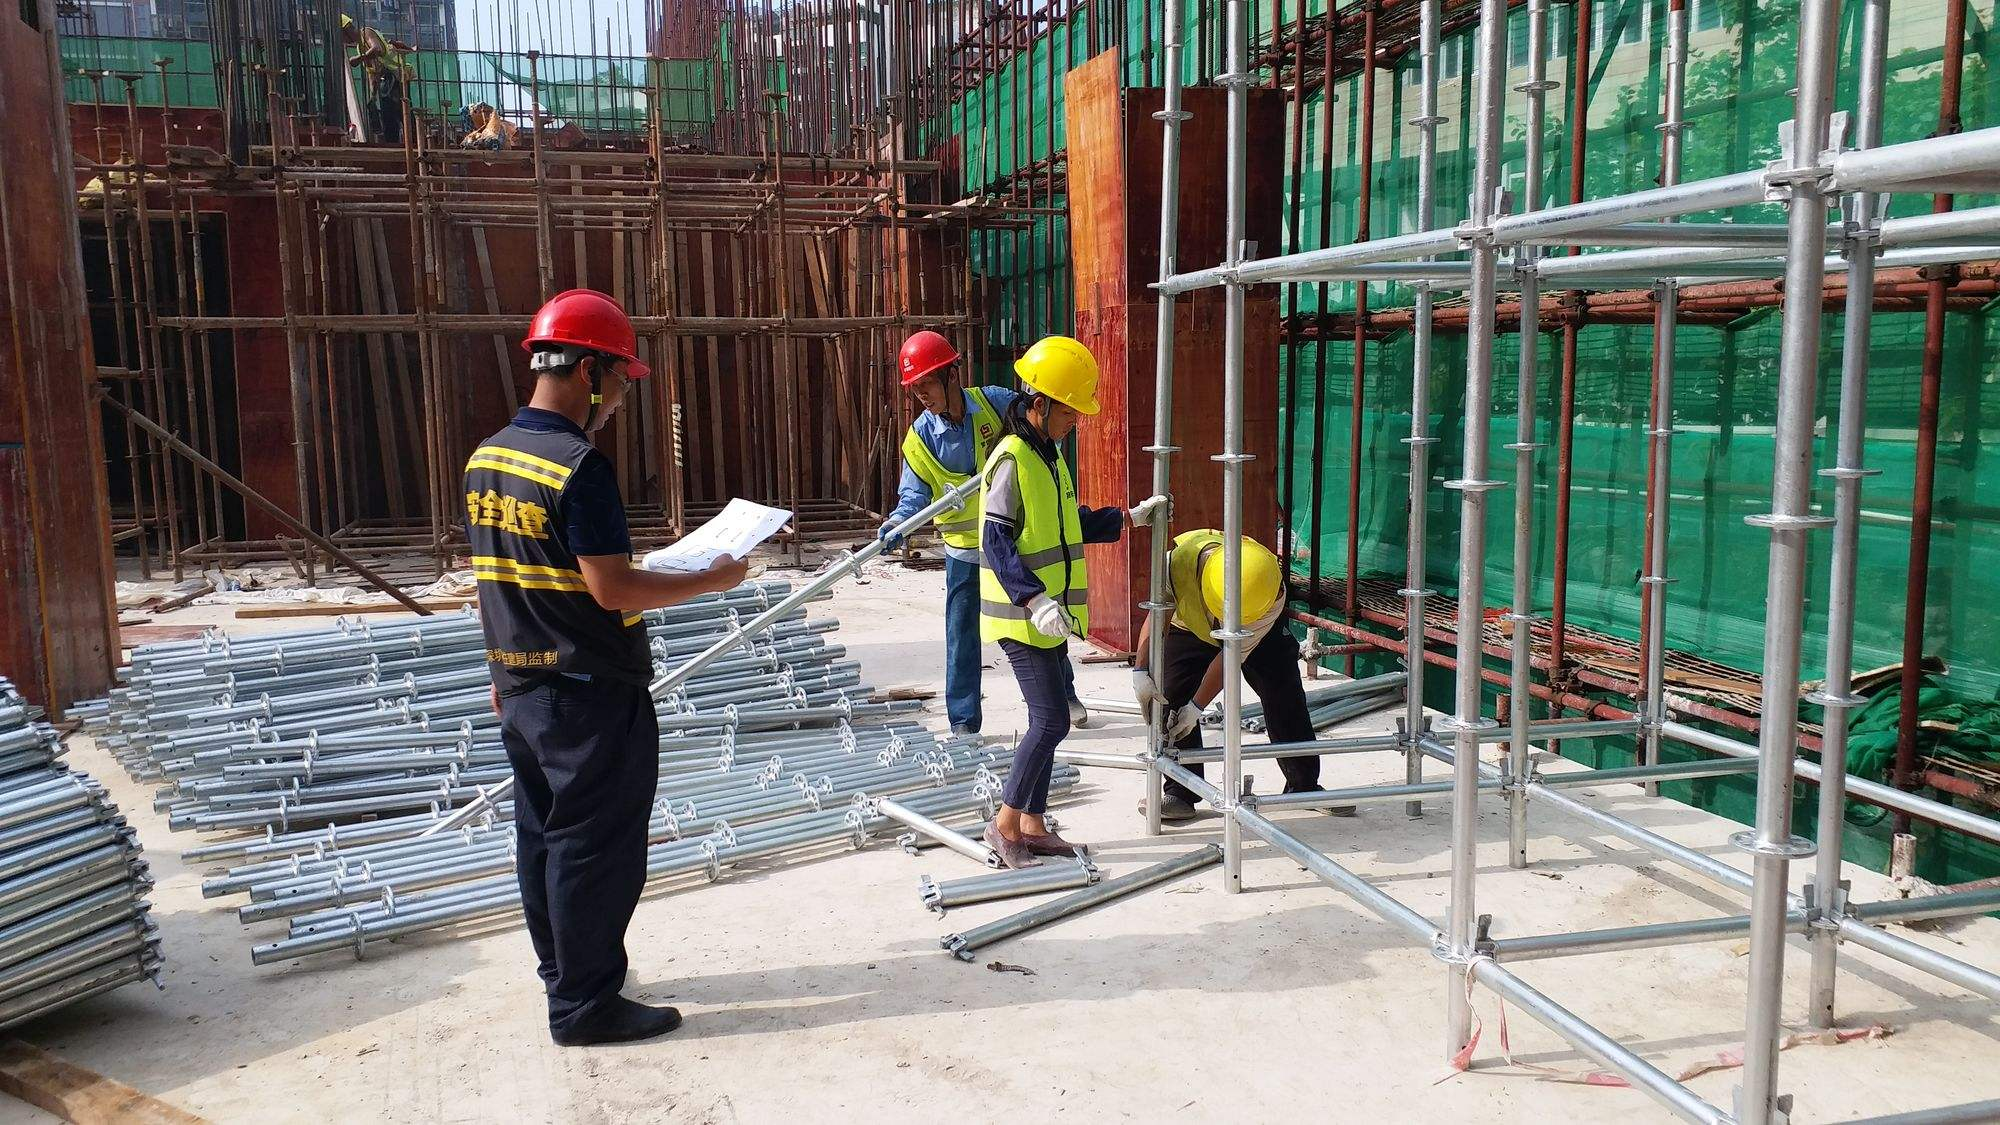person: (463, 282, 687, 1057), (977, 326, 1177, 875), (1130, 524, 1355, 824), (880, 318, 1021, 737)
reflective_vest: (461, 426, 653, 685), (978, 436, 1091, 651), (899, 382, 998, 553), (1170, 524, 1281, 646)
safety_helmet: (515, 282, 650, 435), (1008, 330, 1103, 447), (1198, 530, 1284, 629), (895, 322, 965, 419)
